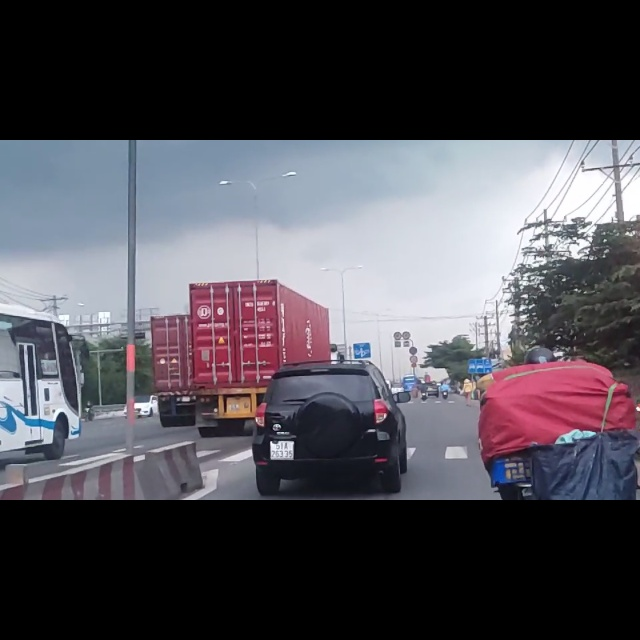bien_chi_dan: (468, 389, 493, 415)
